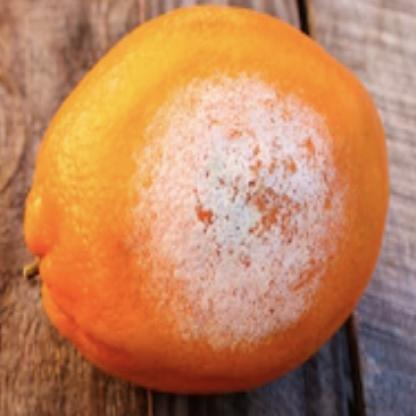rotten: (19, 5, 388, 391)
